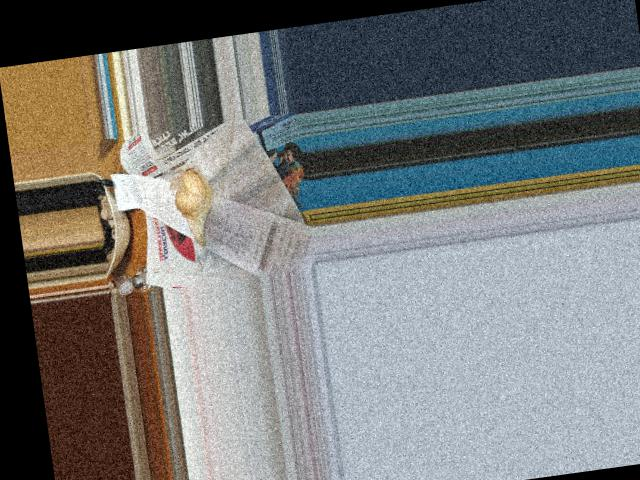onion: (169, 164, 216, 235)
